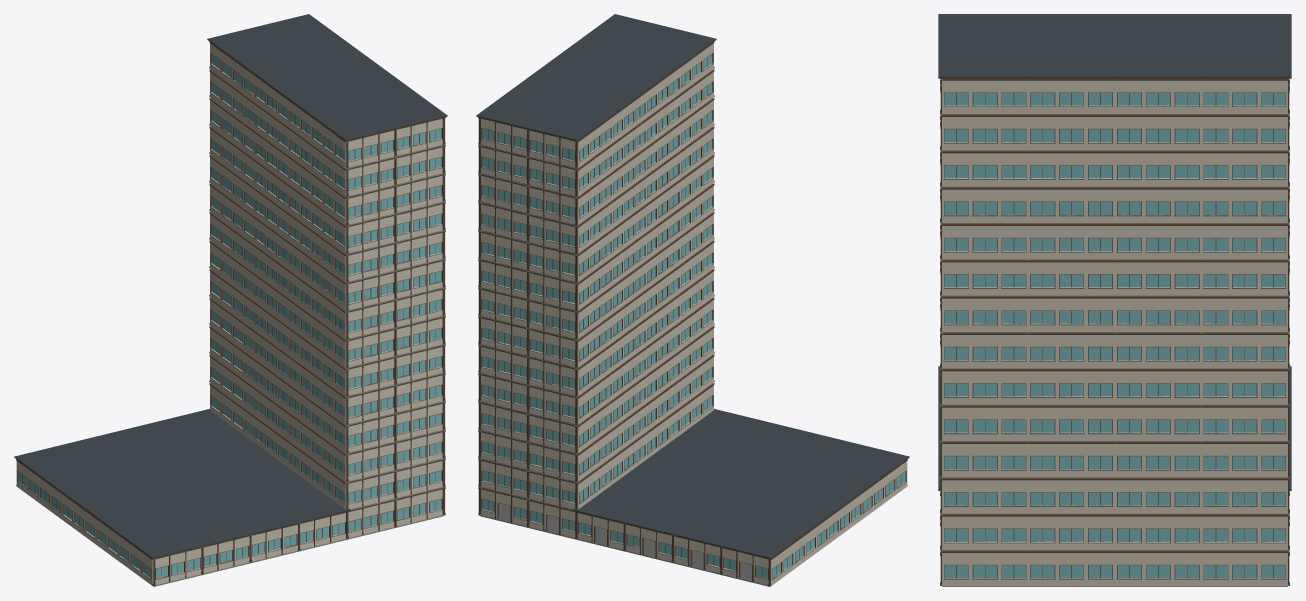
The model's file is visual-far.glb.
3 views of the same model, side by side, from view 1: azimuth 30°, elevation 25°; view 2: azimuth 150°, elevation 25°; view 3: azimuth 270°, elevation 25° (orthographic). The views are drawn at different scales.
Visible parts, largest first — view 1: 参数墙 · 独立窗玻璃 (×88), 连续屋面 · flat (×2); view 2: 参数墙 · 独立窗玻璃 (×82), 连续屋面 · flat (×2), 参数墙 · 通行门洞 (×6); view 3: 参数墙 · 独立窗玻璃 (×56), 连续屋面 · flat (×2).
Part boxes in pixels (box(x1,y1,x2,y2)): 参数墙 · 独立窗玻璃 (×88): box(16, 42, 443, 585); 连续屋面 · flat (×2): box(14, 14, 447, 559); 参数墙 · 独立窗玻璃 (×82): box(480, 42, 907, 585); 连续屋面 · flat (×2): box(476, 14, 909, 559); 参数墙 · 通行门洞 (×6): box(481, 488, 768, 584); 参数墙 · 独立窗玻璃 (×56): box(942, 78, 1287, 586); 连续屋面 · flat (×2): box(938, 14, 1291, 490).
Bounding box in the file's own units: 47.6 × 61.92 × 38.8.
Materials: 15 (15 with a texture image).
